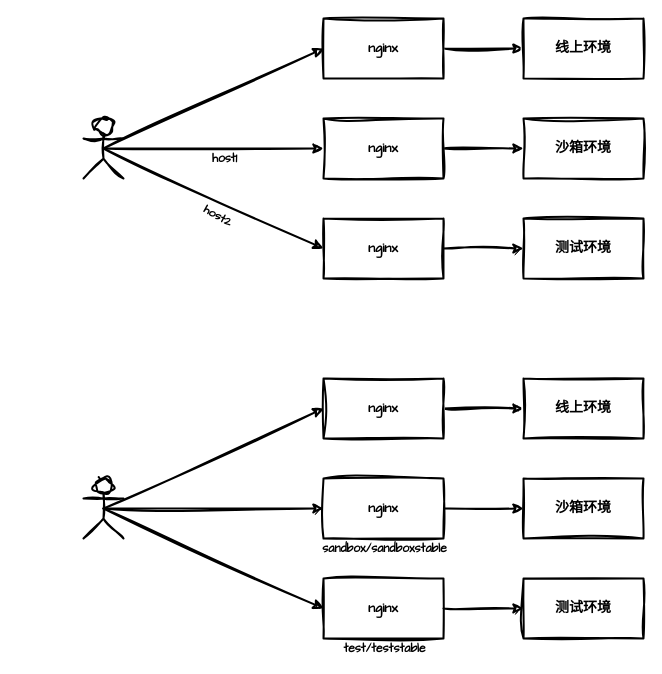
Some shapes in this 662 by 674 pixel diagram are drawn without their labels. Each missing label, with the box of its shape:
x.zhuanspirit.com: (82, 117, 124, 179)
x.zhuanspirit.com/getZZEnvInfo: (82, 477, 124, 539)
